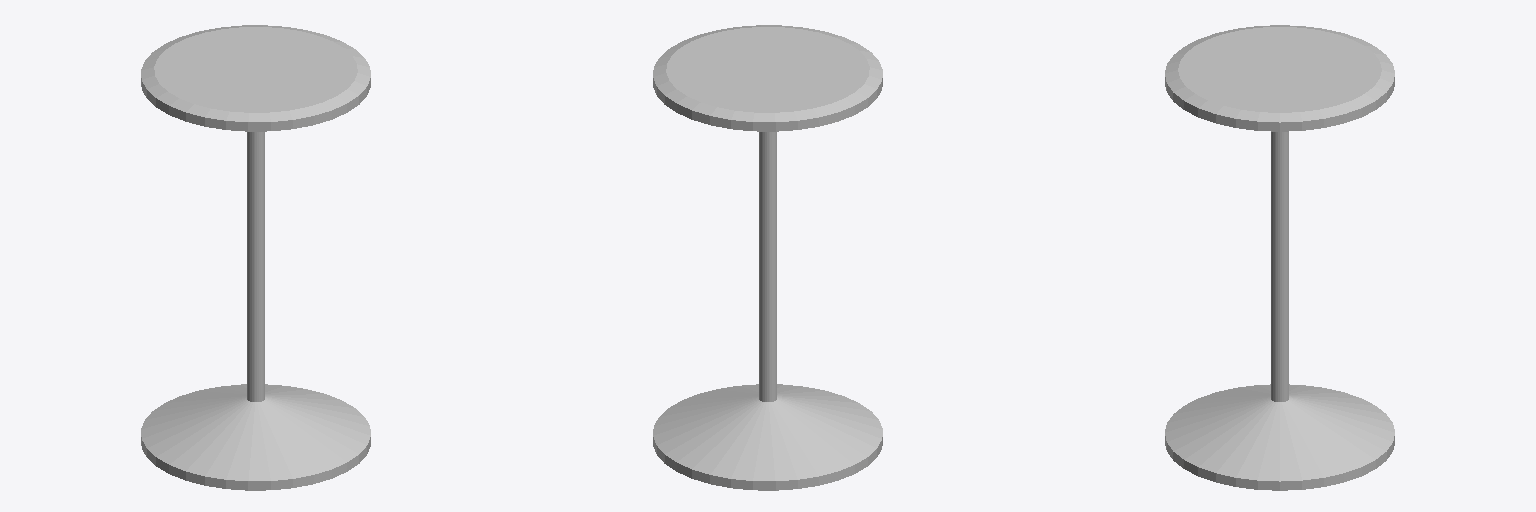
Rendered from chair.obj.
3 views of the same model, side by side, from view 1: azimuth 30°, elevation 25°; view 2: azimuth 150°, elevation 25°; view 3: azimuth 270°, elevation 25° (orthographic).
Visible parts, largest first — view 1: Cylinder_Cylinder.001; view 2: Cylinder_Cylinder.001; view 3: Cylinder_Cylinder.001.
Boxes of the visible parts, <box> form: Cylinder_Cylinder.001: <box>141,25,370,490</box>; Cylinder_Cylinder.001: <box>653,25,882,490</box>; Cylinder_Cylinder.001: <box>1165,25,1394,490</box>.
Bounding box in the file's own units: 1.62 × 2.88 × 1.62.